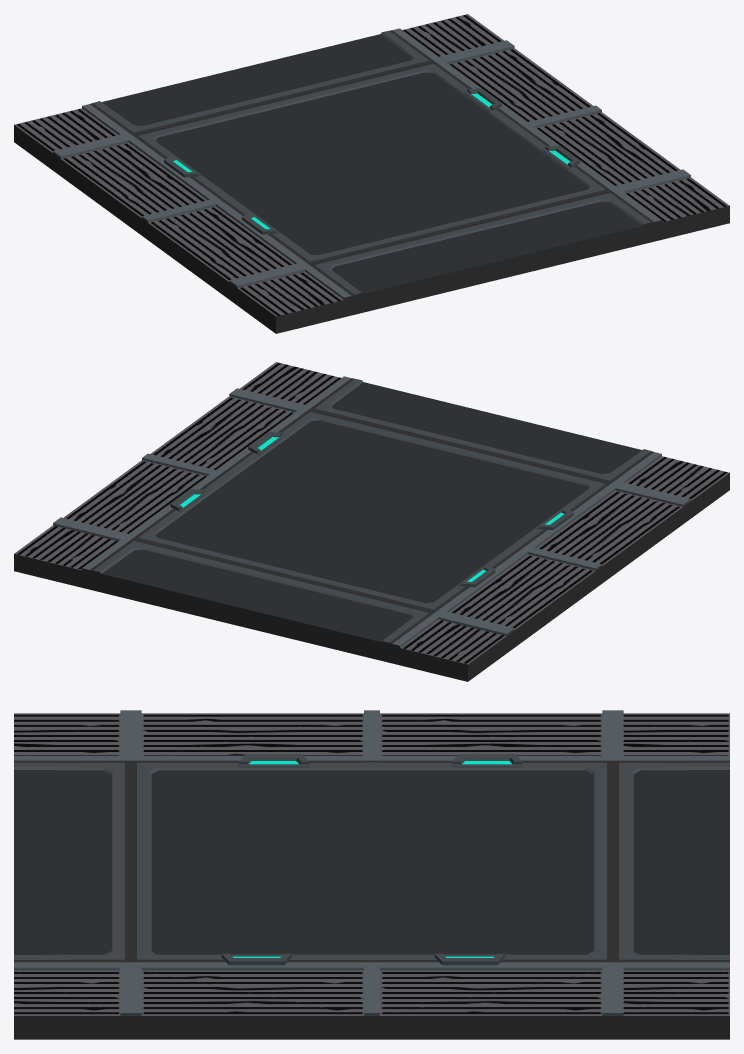
The model's file is SM_Bld_Floor_011.fbx.
3 renders of one model, top to bottom at view 1: azimuth 30°, elevation 25°; view 2: azimuth 150°, elevation 25°; view 3: azimuth 270°, elevation 25°, orthographic. The views are drawn at different scales.
Visible parts, largest first — view 1: SM_Bld_Floor_011; view 2: SM_Bld_Floor_011; view 3: SM_Bld_Floor_011.
Boxes of the visible parts, x1=… form: SM_Bld_Floor_011: x1=14, y1=14, x2=729, y2=333; SM_Bld_Floor_011: x1=14, y1=362, x2=729, y2=681; SM_Bld_Floor_011: x1=14, y1=710, x2=729, y2=1039.
Bounding box in the file's own units: 500 × 23.72 × 500.
Materials: 1 (1 with a texture image).
